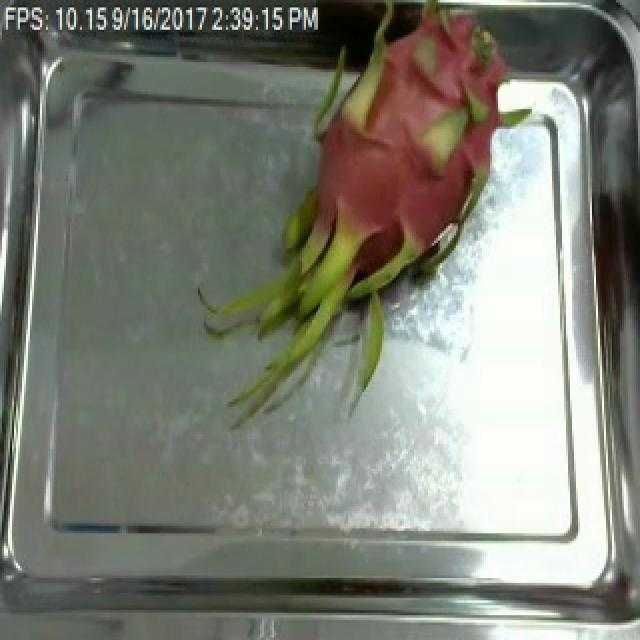fruit: (230, 0, 536, 414)
